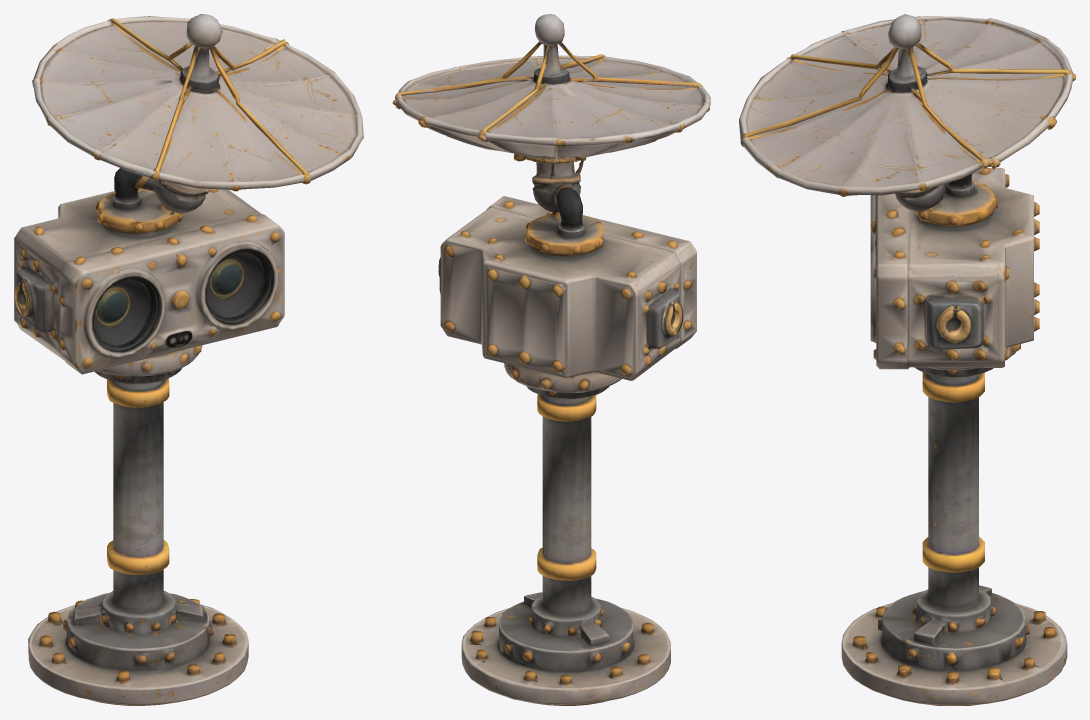
File: SM_Probe_Radar.fbx
The picture shows the model from 3 angles, left to right: view 1: azimuth 30°, elevation 25°; view 2: azimuth 150°, elevation 25°; view 3: azimuth 270°, elevation 25°; orthographic projection. The views are drawn at different scales.
Parts seen in each view (by area): view 1: SM_Probe_Radar; view 2: SM_Probe_Radar; view 3: SM_Probe_Radar.
Boxes of the visible parts, <box> form: SM_Probe_Radar: <box>14,14,363,705</box>; SM_Probe_Radar: <box>392,14,710,705</box>; SM_Probe_Radar: <box>739,14,1075,705</box>.
Size of the model in its own units: 0.2766 by 0.5865 by 0.2674.
1 material, 1 textured.
